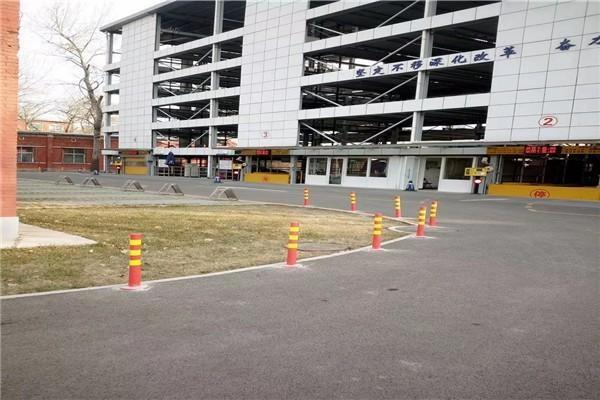cone_barrel: (119, 231, 146, 290), (282, 220, 301, 266), (368, 211, 383, 249), (414, 204, 426, 237), (427, 200, 437, 222), (391, 193, 400, 215), (347, 190, 357, 209), (301, 185, 309, 204)
